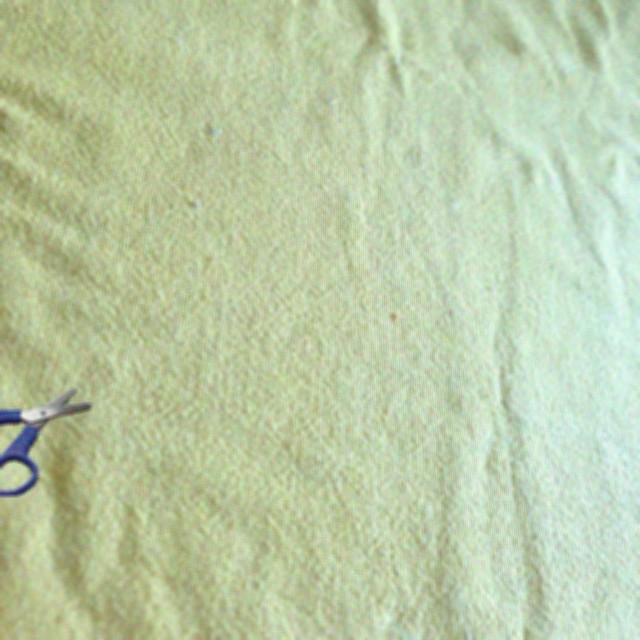scissors: (0, 388, 92, 496)
